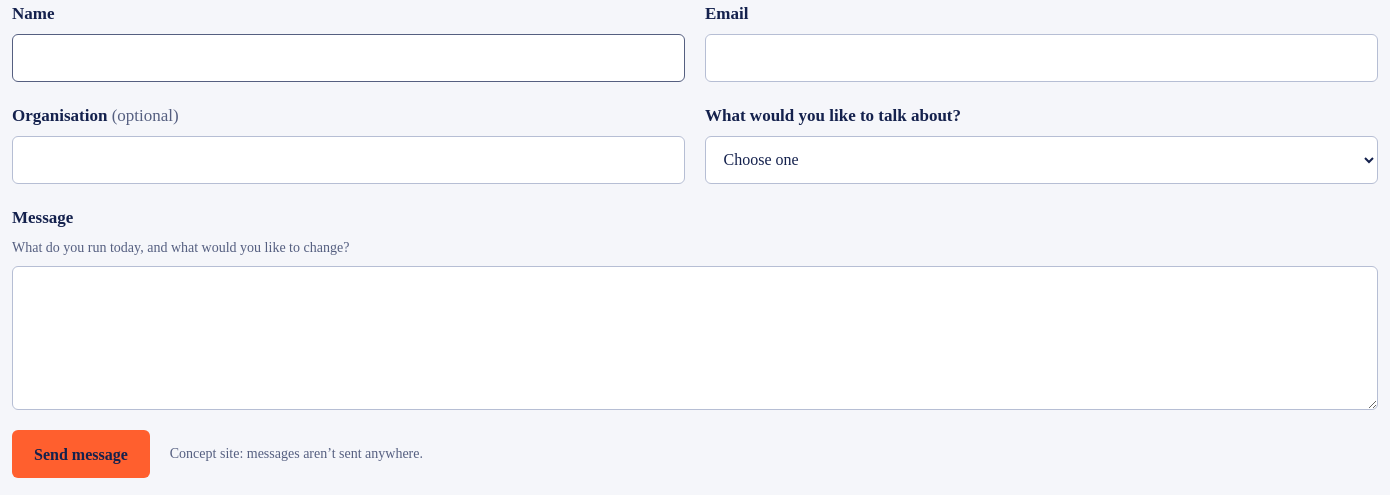
Test: <ContactForm /> › confirms without sending anything when the form is valid
The image size is (1390, 495).
Type "Ada Lovelace" into the field labelled "Name" at [348, 58], box 12,34 -> 685,82
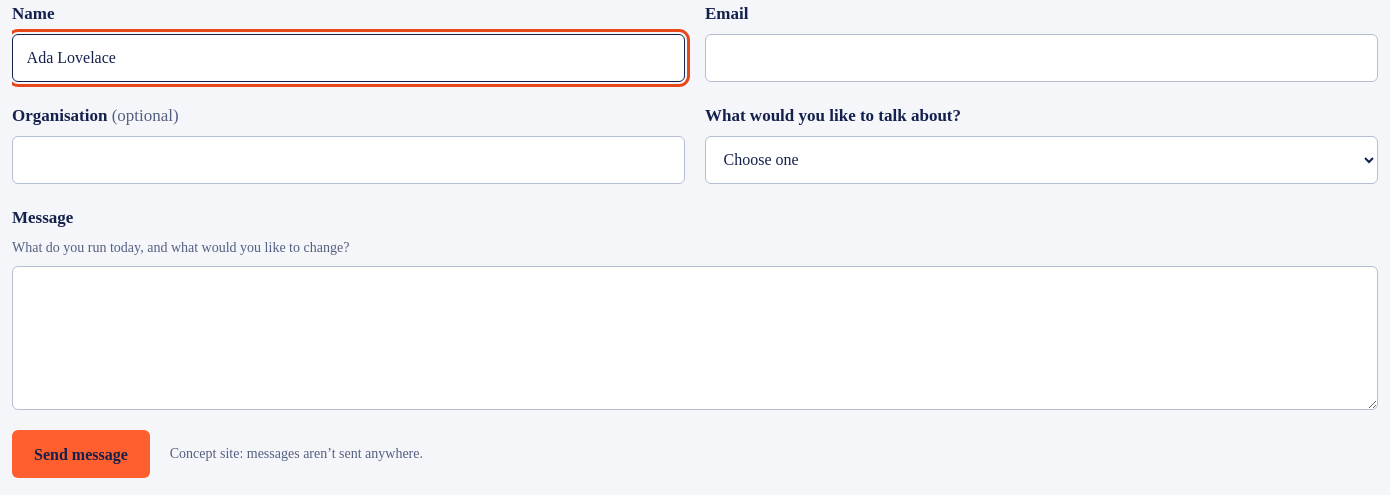
Type "ada@example.com" into the field labelled "Email" at [1042, 58], box 705,34 -> 1378,82
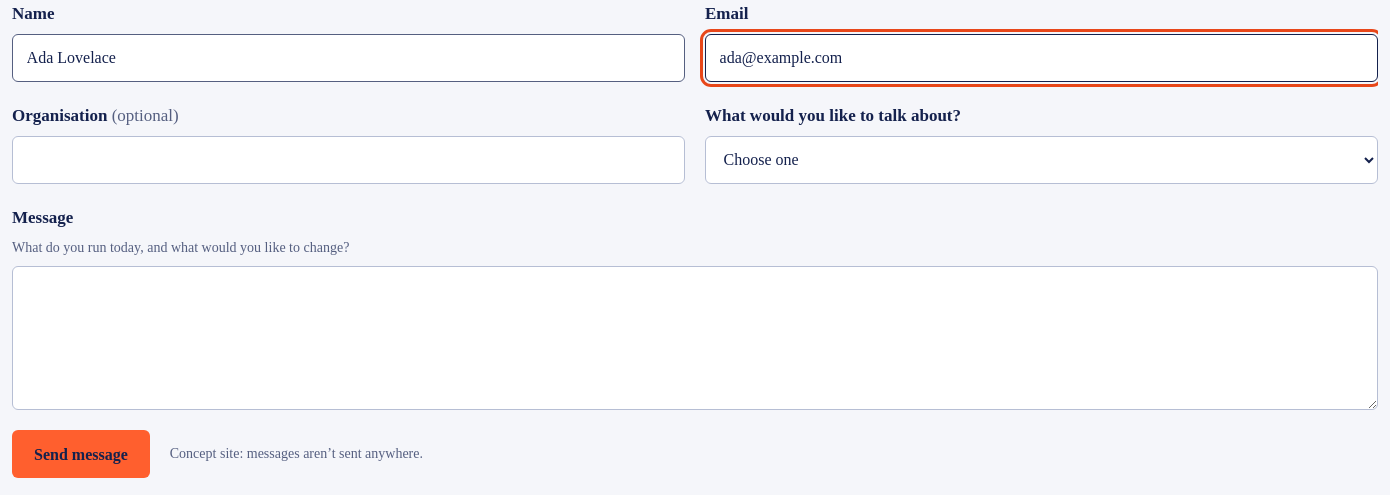
Select "A Blaze demo" in the dropdown labelled "What would you like to talk about?" at [1042, 160], box 705,136 -> 1378,184
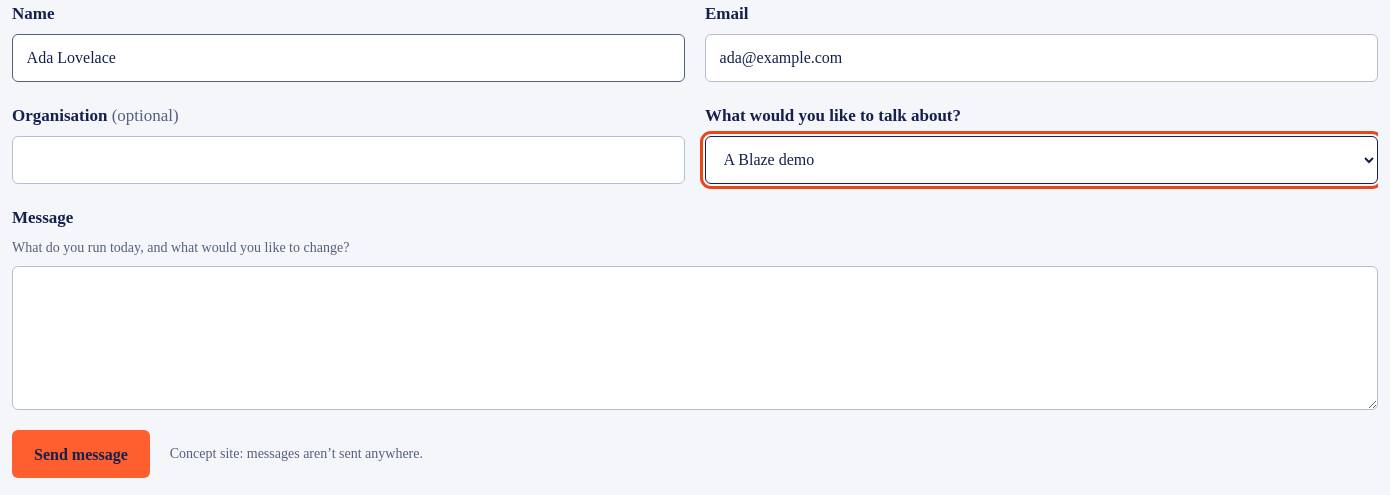
Type "We run a magazine on an old CMS and want to move." into the text box labelled "Message" at [695, 338], box 12,266 -> 1378,410
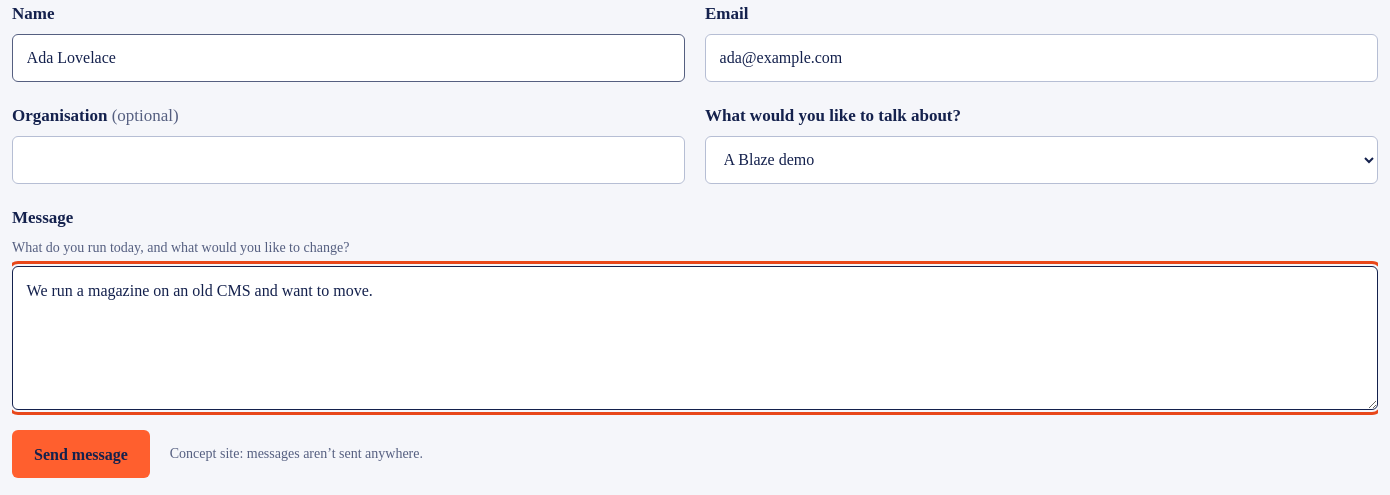
Click the button "Send message" at [81, 454], box 12,430 -> 150,478
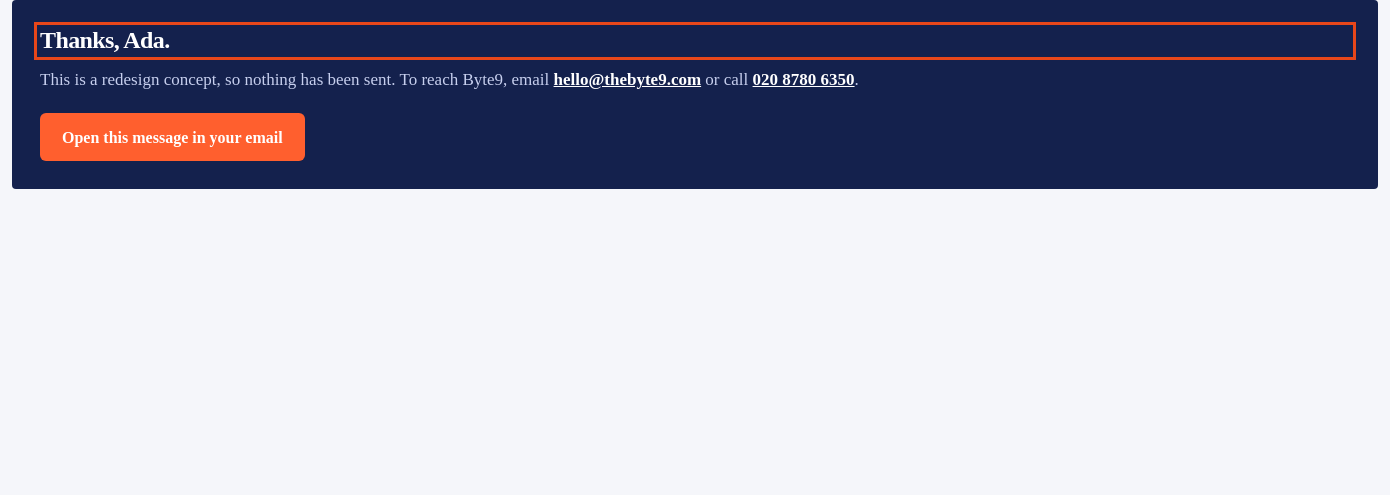
Expected: the heading "Thanks, Ada." is shown, 40,27 -> 170,53
Expected: the text "nothing has been sent" is shown, 40,70 -> 549,89
